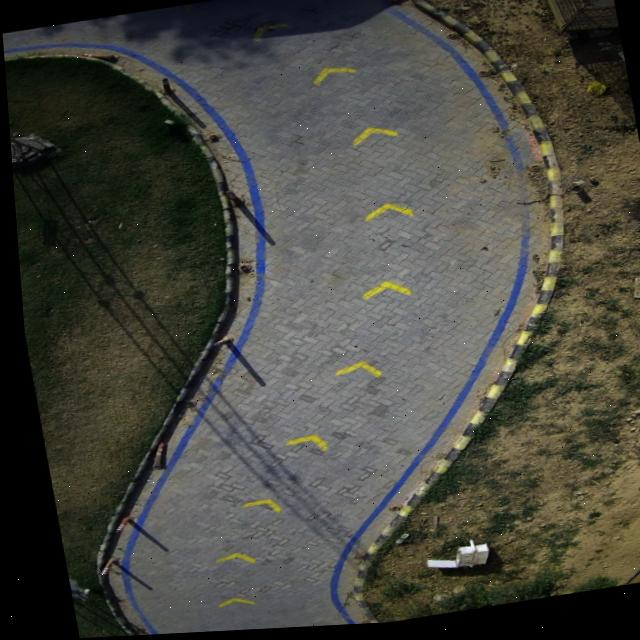No Car: (2, 0, 640, 639)
